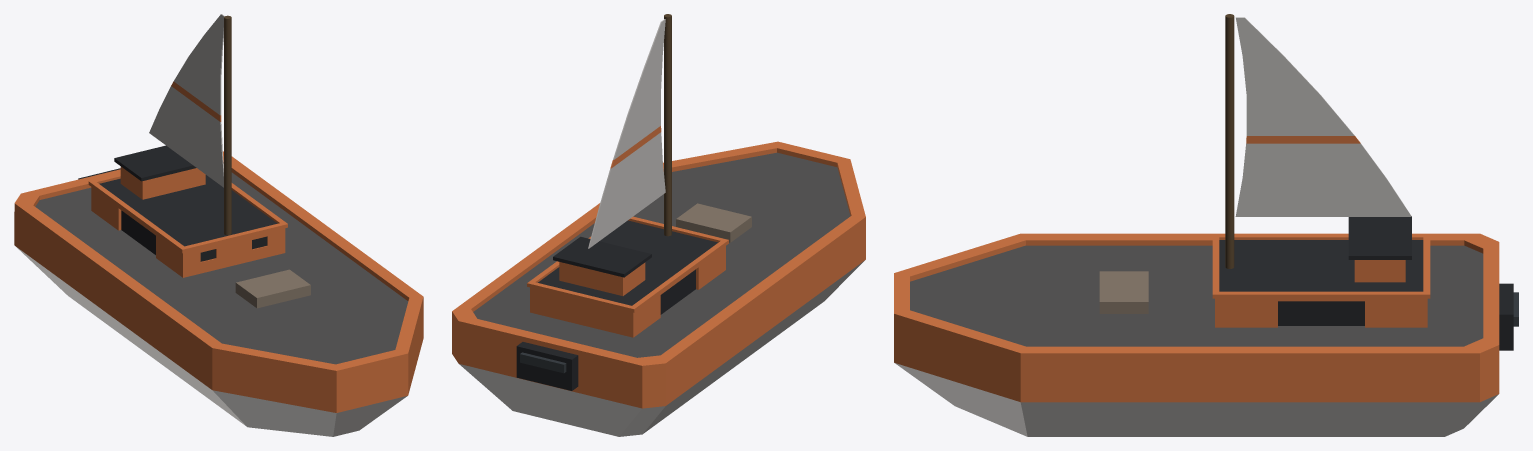
The model's file is Yacht_1.fbx.
The picture shows the model from 3 angles, left to right: view 1: azimuth 30°, elevation 25°; view 2: azimuth 150°, elevation 25°; view 3: azimuth 270°, elevation 25°; orthographic projection. The views are drawn at different scales.
Parts seen in each view (by area): view 1: Yacht_1; view 2: Yacht_1; view 3: Yacht_1.
Boxes of the visible parts, x1,y1,x2,y2 form: Yacht_1: (14, 14, 423, 436); Yacht_1: (452, 14, 865, 436); Yacht_1: (894, 14, 1518, 436).
Bounding box in the file's own units: 456 × 681 × 1007.
